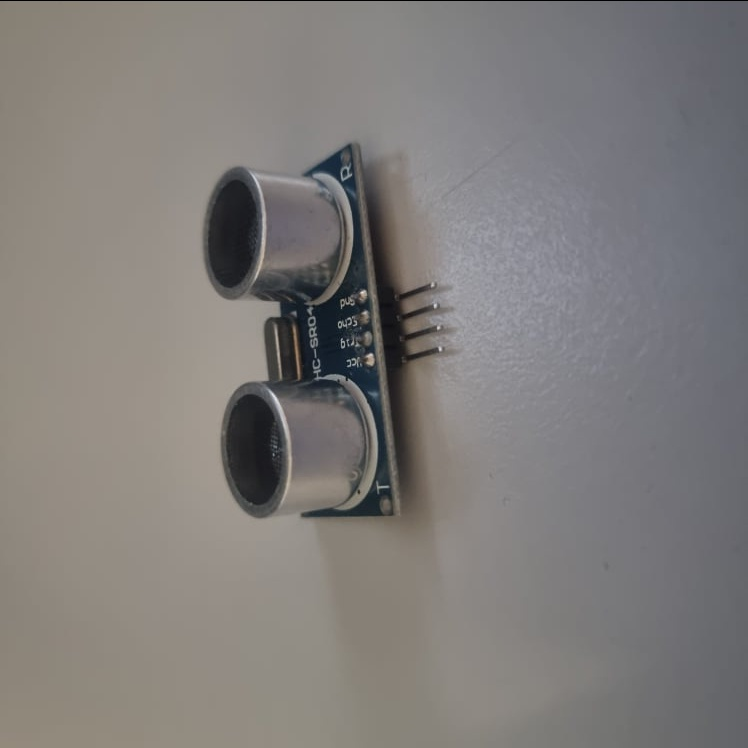SENSOR: (205, 142, 441, 518)
